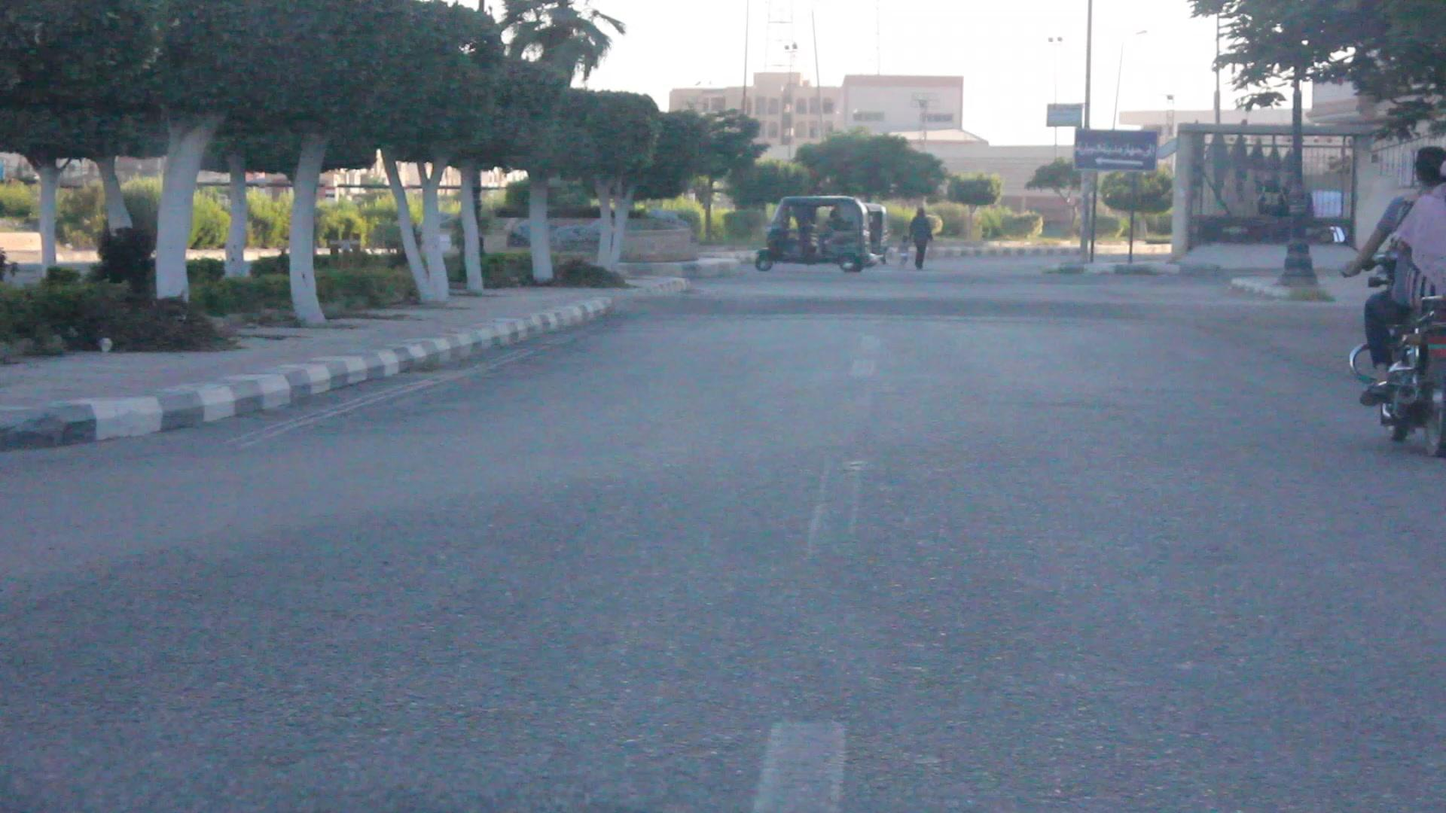Bump: (623, 284, 1312, 327)
